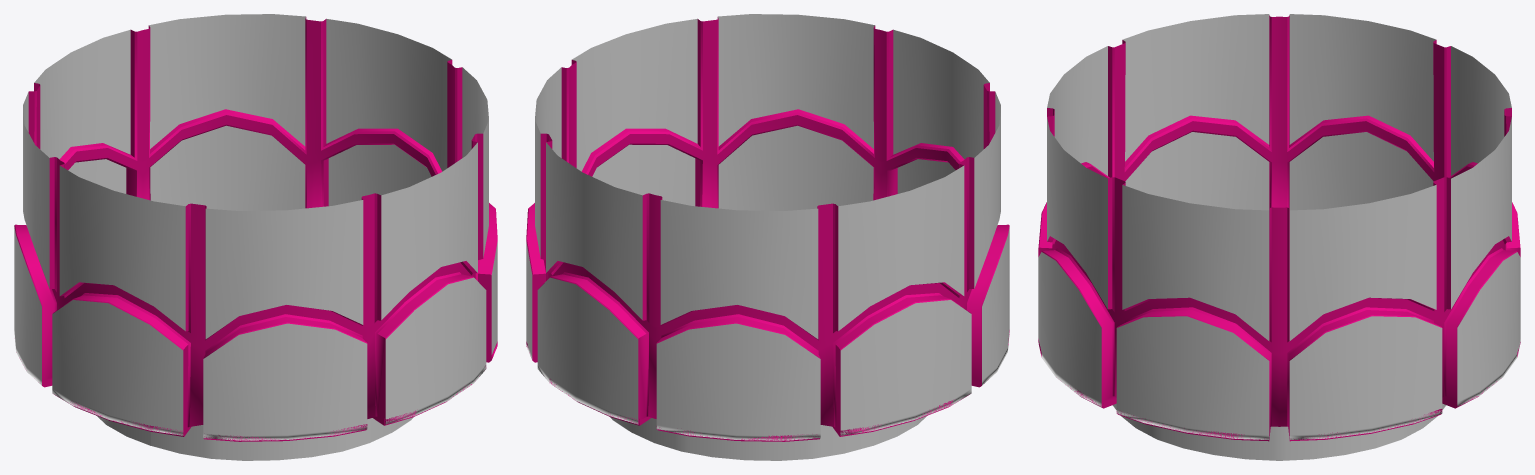
The model's file is new arena.fbx.
3 renders of one model, left to right at view 1: azimuth 30°, elevation 25°; view 2: azimuth 150°, elevation 25°; view 3: azimuth 270°, elevation 25°, orthographic.
Parts seen in each view (by area): view 1: Ring_5; view 2: Ring_5; view 3: Ring_5.
Boxes of the visible parts, <box> form: Ring_5: <box>14,14,497,460</box>; Ring_5: <box>526,14,1009,460</box>; Ring_5: <box>1038,14,1520,460</box>.
Size of the model in its own units: 1876 by 1183 by 1876.
